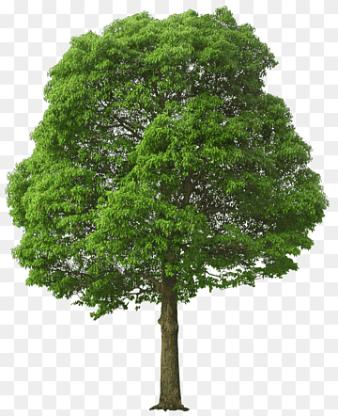tree: (9, 2, 335, 414)
